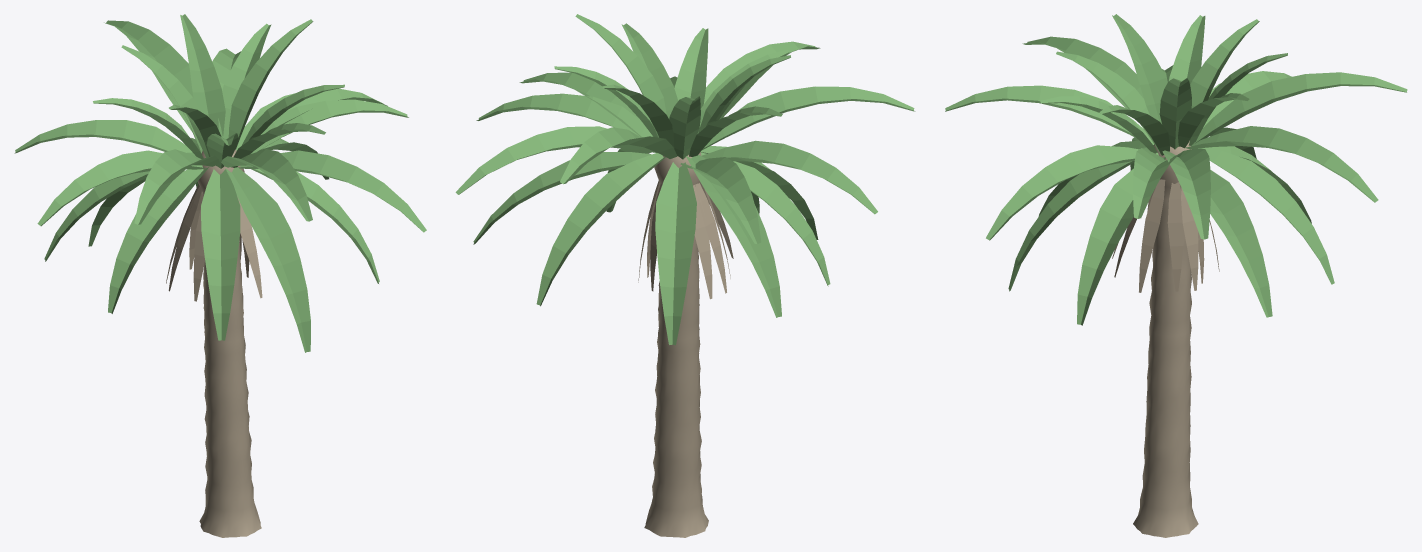
Rendered from palm_canary.glb.
3 views of the same model, side by side, from view 1: azimuth 30°, elevation 25°; view 2: azimuth 150°, elevation 25°; view 3: azimuth 270°, elevation 25° (orthographic). The views are drawn at different scales.
Parts seen in each view (by area): view 1: palm_canary; view 2: palm_canary; view 3: palm_canary.
Boxes of the visible parts, x1,y1,x2,y2 form: palm_canary: (14,14,426,537); palm_canary: (455,14,915,537); palm_canary: (945,14,1407,537).
Size of the model in its own units: 9.26 by 11.5 by 9.88.
